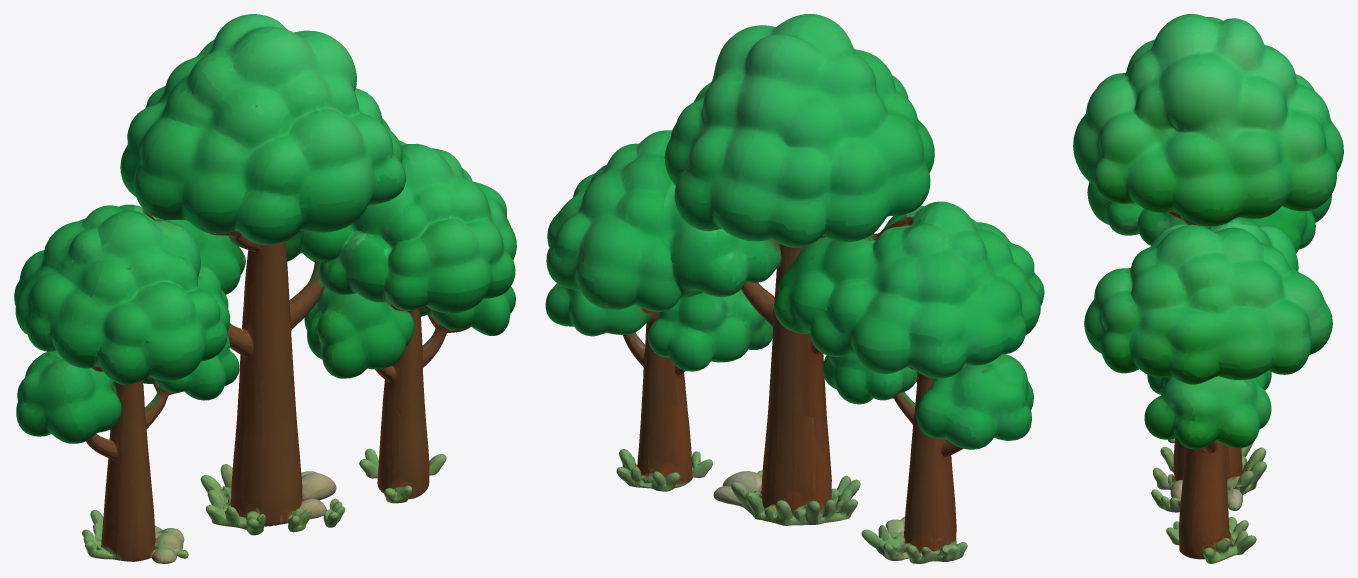
File: TreeThree.glb
The picture shows the model from 3 angles, left to right: view 1: azimuth 30°, elevation 25°; view 2: azimuth 150°, elevation 25°; view 3: azimuth 270°, elevation 25°; orthographic projection. The views are drawn at different scales.
Visible parts, largest first — view 1: geometry_0; view 2: geometry_0; view 3: geometry_0.
Part boxes in pixels (left/top/right/bottom): geometry_0: left=14, top=14, right=516, bottom=563; geometry_0: left=545, top=14, right=1044, bottom=563; geometry_0: left=1073, top=14, right=1343, bottom=563.
Bounding box in the file's own units: 0.4535 × 0.45 × 0.235.
1 material, 1 textured.
